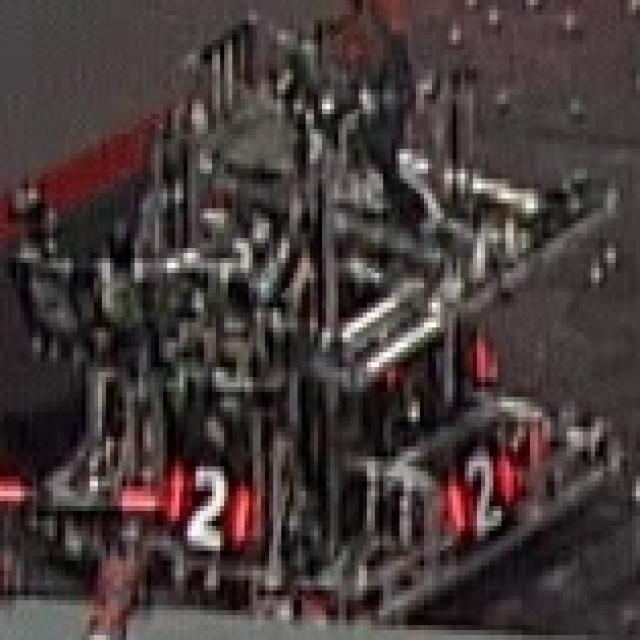R2: (163, 461, 253, 551), (444, 441, 518, 536)
